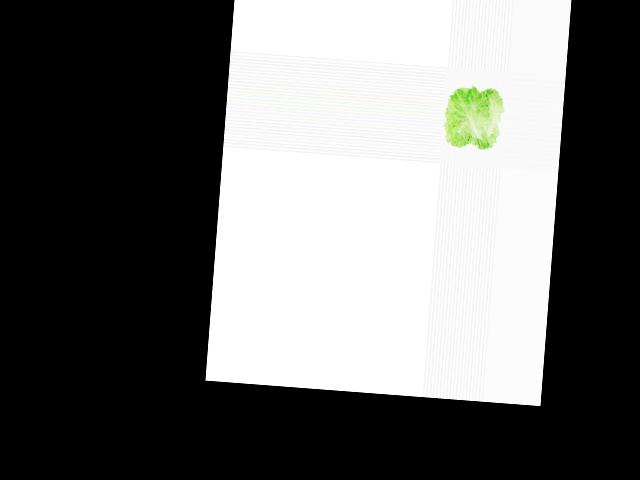lettuce: (440, 79, 507, 155)
